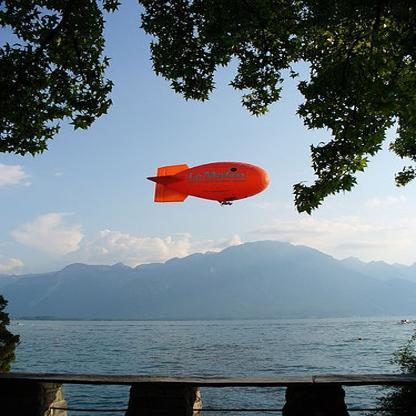Airship: (146, 158, 272, 215)
